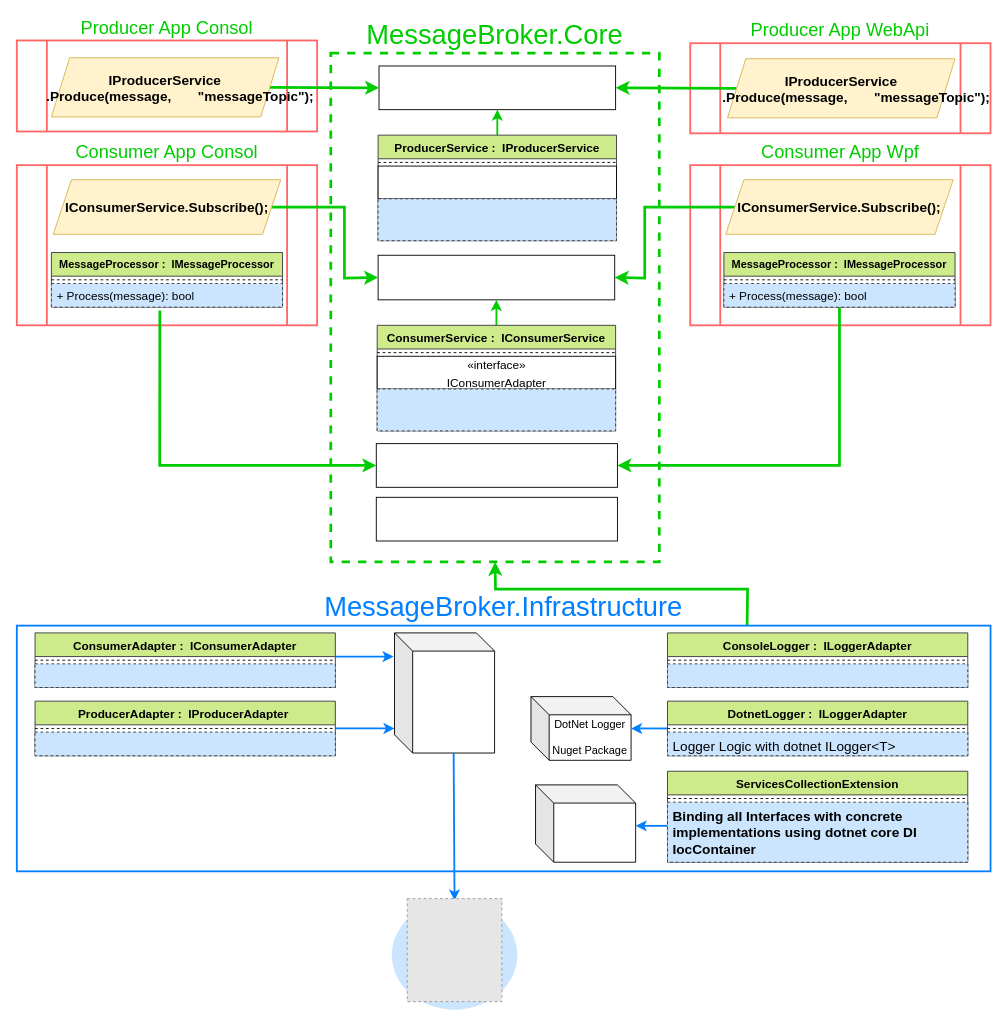
The diagram is 1006 pixels wide and 1025 high, and some of its shapes have lost their labels. Grey dashed boxes stand in for pictures. Each missing label, with the centre of its shape:
"+ Consume(cancellationToken): ConsumeResult" belongs at point (184, 675).
"+ Produce(MessageModel message, string topic): DeliveryResultModel" belongs at point (497, 219).
"+ ProduceAsync(type, message): DeliveryResult" belongs at point (184, 743).
"+ Subscribe(topic, cancellationToken): void" belongs at point (496, 409).
"Confluent.Kafka Nuget Package" belongs at point (444, 692).
"DotNet DI Ioc Container Nuget Package" belongs at point (585, 823).
"Logger Logic with console.log" belongs at point (817, 675).
"«interface» IConsumerService" belongs at point (496, 277).
"«interface» ILoggerAdapter" belongs at point (496, 518).
"«interface» IMessageProcessor" belongs at point (496, 465).
"«interface» IProducerAdapter" belongs at point (497, 182).
"«interface» IProducerService" belongs at point (497, 87).
